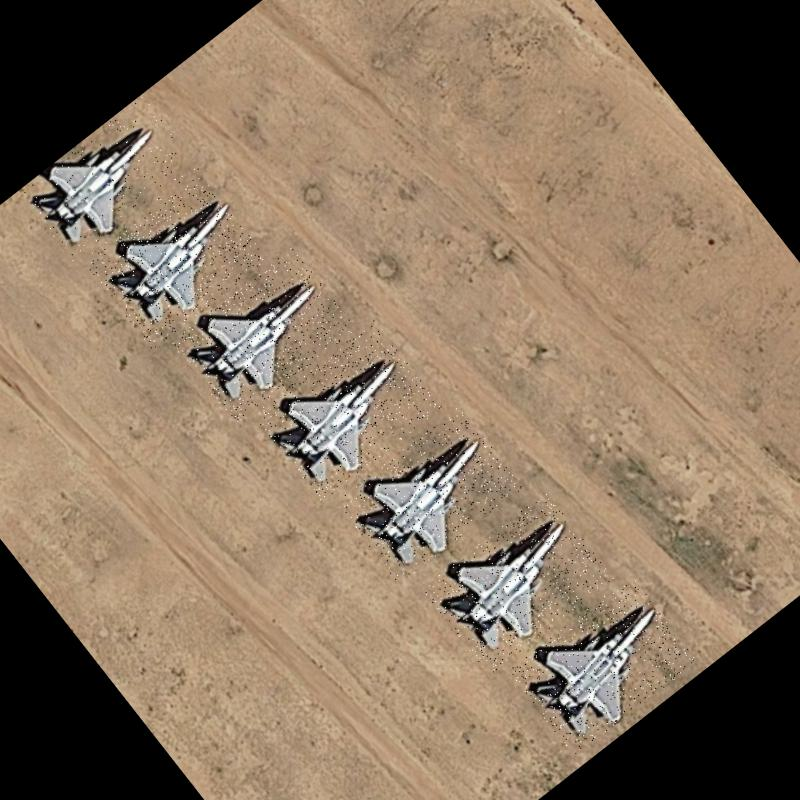A13: (422, 492, 614, 676), (508, 574, 698, 757), (253, 320, 442, 502), (336, 404, 524, 585), (170, 246, 356, 424), (84, 172, 268, 350), (19, 95, 202, 266)
